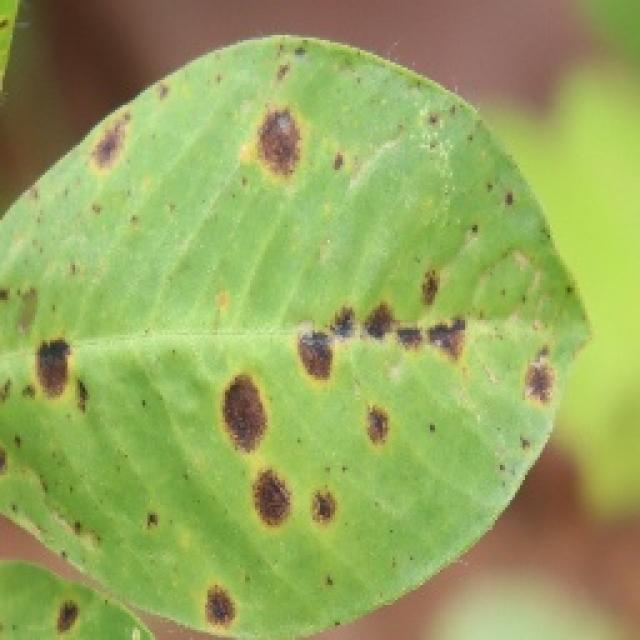Yellowish: (0, 52, 572, 612)
